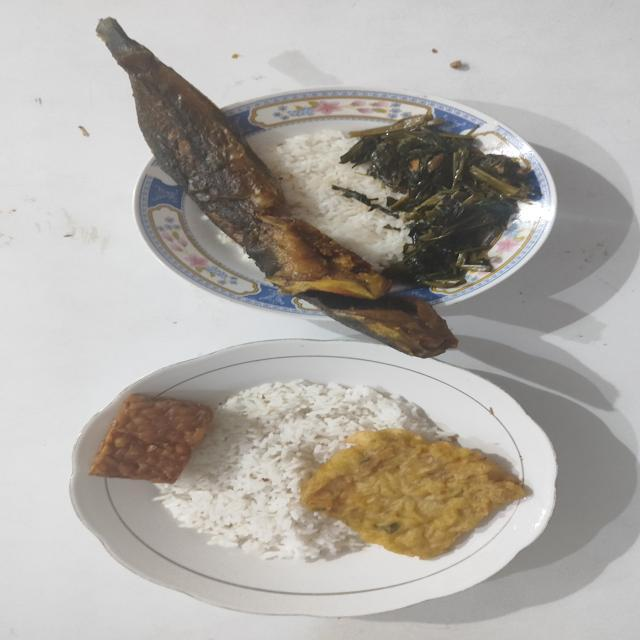nasi_putih: (160, 380, 450, 561), (261, 129, 409, 269)
tempe_goreng: (89, 394, 213, 484)
tumis_kangkung: (340, 111, 542, 288)
